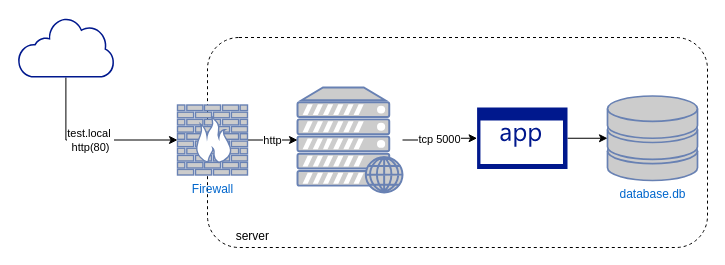
This 725x265 diagram has some shape labels left out. The shapes that lost their labels are listed below. From the top down, each one's centre as x and y in pixels, then its label:
(x=65, y=47): Internet
(x=349, y=139): test.local
